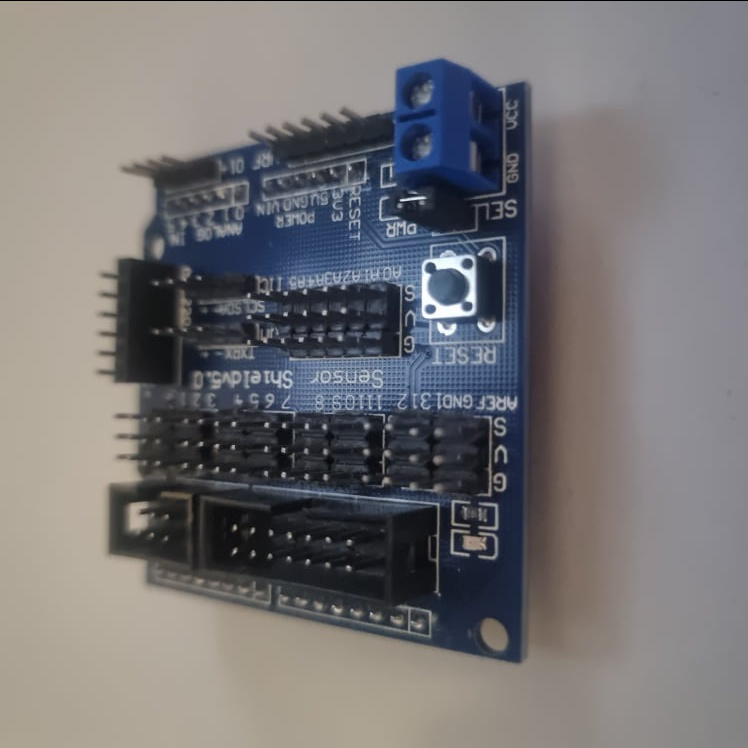5V EXPANSION: (99, 57, 537, 667)
